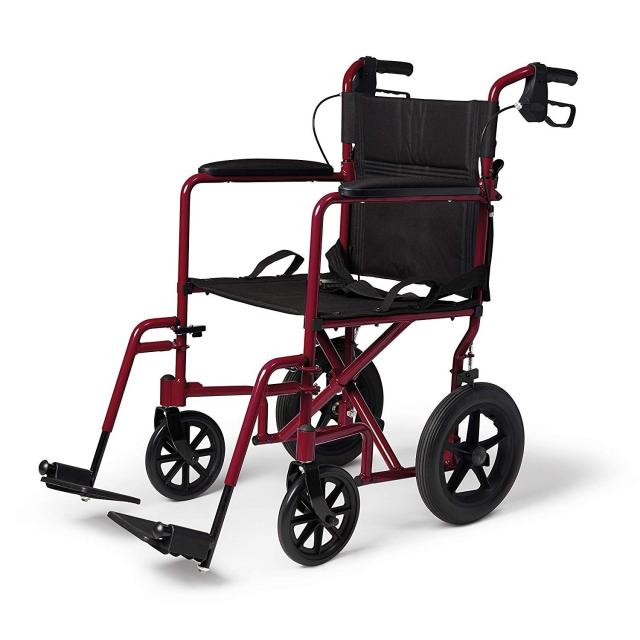wheelchair: (35, 51, 584, 582)
